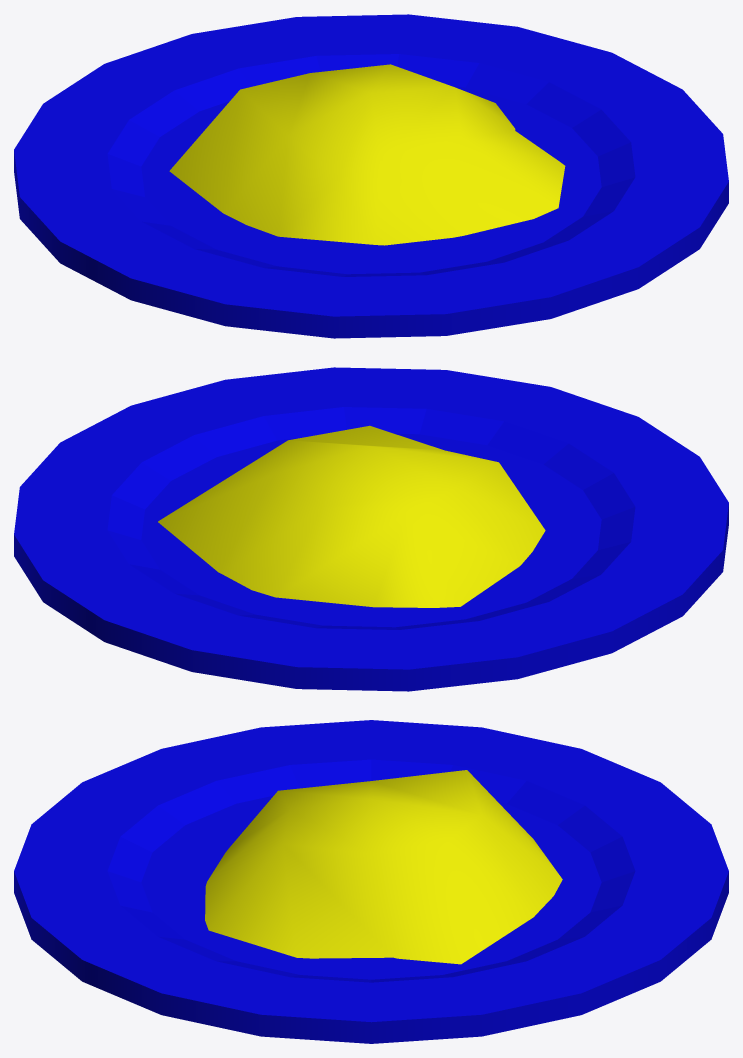
Rendered from nudelgericht_low.0001.fbx.
The picture shows the model from 3 angles, top to bottom: view 1: azimuth 30°, elevation 25°; view 2: azimuth 150°, elevation 25°; view 3: azimuth 270°, elevation 25°; orthographic projection.
Visible parts, largest first — view 1: pCylinder1, pPlane1; view 2: pCylinder1, pPlane1; view 3: pCylinder1, pPlane1.
Boxes of the visible parts, x1,y1,x2,y2 form: pCylinder1: [14, 14, 728, 338]; pPlane1: [169, 64, 565, 245]; pCylinder1: [14, 367, 728, 691]; pPlane1: [158, 425, 545, 607]; pCylinder1: [14, 720, 728, 1043]; pPlane1: [205, 770, 562, 964].
Bounding box in the file's own units: 1.6 × 0.2804 × 1.6.
